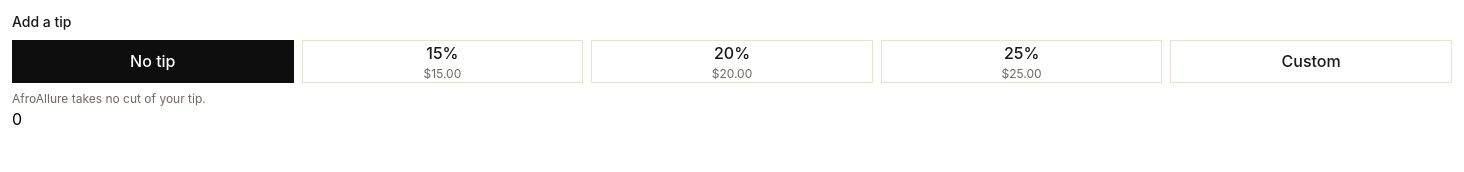
Test: TipPicker › locks every button while a tip is saving, so only one change is in flight
Click the button "15% $15.00" at (442, 61), box x1=302 y1=40 x2=583 y2=83
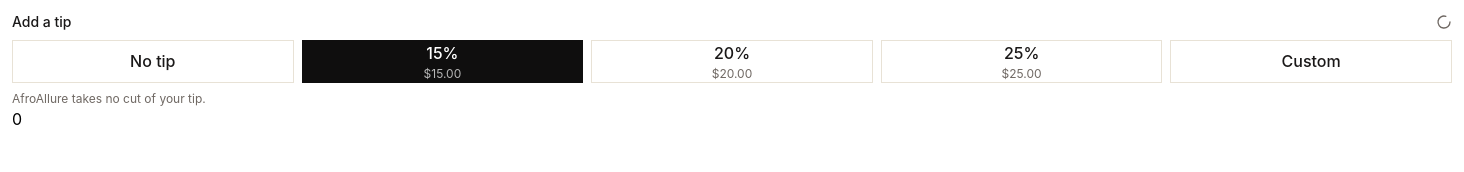
Click the button "25% $25.00" at (1022, 61), box x1=881 y1=40 x2=1162 y2=83
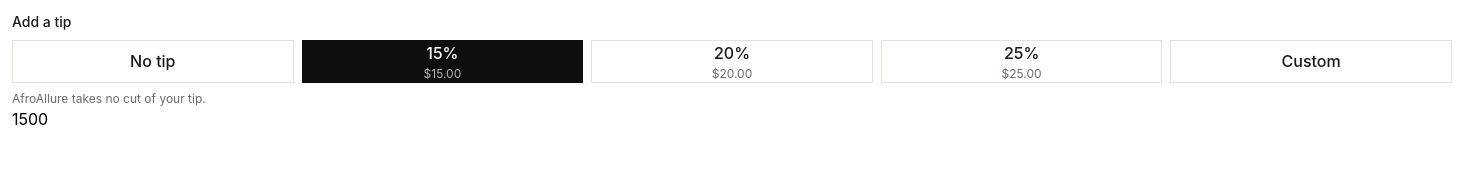
expect the text with test id "tip" reads "1500": met, box x1=12 y1=109 x2=48 y2=129
